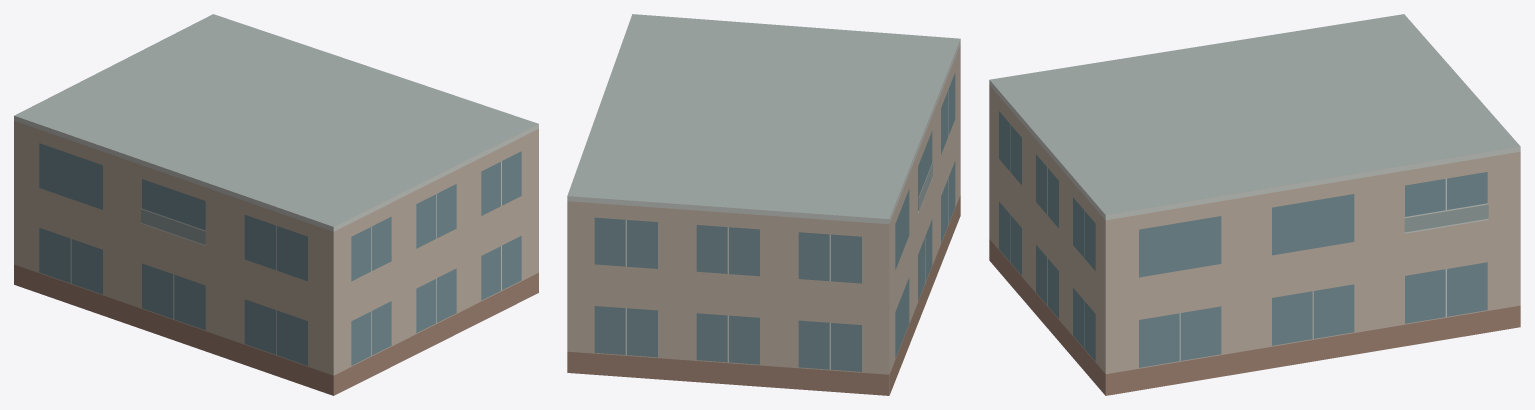
The model's file is survey-upis-32982668.glb.
The picture shows the model from 3 angles, left to right: view 1: azimuth 30°, elevation 25°; view 2: azimuth 150°, elevation 25°; view 3: azimuth 270°, elevation 25°; orthographic projection. The views are drawn at different scales.
Visible parts, largest first — view 1: survey-upis-32982668.tmp; view 2: survey-upis-32982668.tmp; view 3: survey-upis-32982668.tmp.
Boxes of the visible parts, box(x1,y1,x2,y2) form: survey-upis-32982668.tmp: box(14, 14, 538, 395); survey-upis-32982668.tmp: box(567, 14, 960, 395); survey-upis-32982668.tmp: box(989, 14, 1520, 395).
Bounding box in the file's own units: 20.05 × 8.4 × 22.38.
